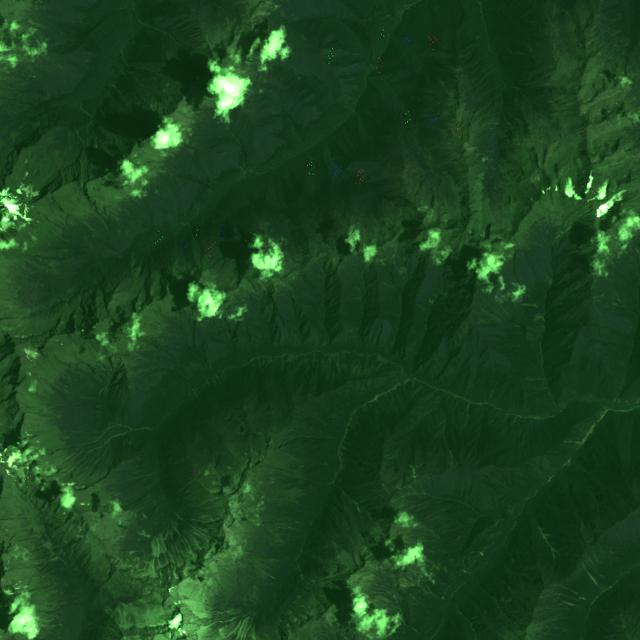landslides: (216, 594, 276, 640), (170, 520, 198, 566), (176, 515, 225, 539), (223, 319, 246, 369), (335, 485, 372, 516), (94, 424, 155, 442), (160, 533, 180, 583), (399, 578, 443, 600), (80, 372, 106, 409), (91, 430, 128, 454), (180, 527, 207, 556), (157, 540, 172, 588), (551, 584, 587, 601), (145, 534, 158, 581), (582, 563, 603, 591), (584, 550, 604, 579), (191, 531, 219, 548), (207, 616, 240, 630), (37, 555, 64, 571), (133, 555, 150, 579), (154, 542, 163, 586), (196, 493, 225, 506), (236, 616, 251, 640), (541, 593, 580, 602), (43, 566, 68, 579), (130, 555, 147, 574), (212, 327, 229, 345), (613, 336, 630, 354), (582, 519, 594, 544), (375, 588, 398, 600), (274, 613, 292, 628), (193, 525, 222, 534), (587, 554, 600, 574), (182, 539, 189, 576), (199, 500, 226, 509), (288, 604, 306, 617), (522, 303, 545, 313), (243, 617, 253, 640), (32, 541, 52, 552), (286, 610, 302, 623), (219, 621, 235, 633), (99, 380, 110, 395), (260, 570, 276, 580), (72, 395, 98, 401), (221, 624, 235, 635), (591, 548, 600, 565), (417, 303, 428, 316), (176, 544, 186, 557), (409, 465, 417, 479), (178, 542, 186, 556), (210, 495, 228, 501), (120, 562, 132, 571), (564, 440, 581, 446)
